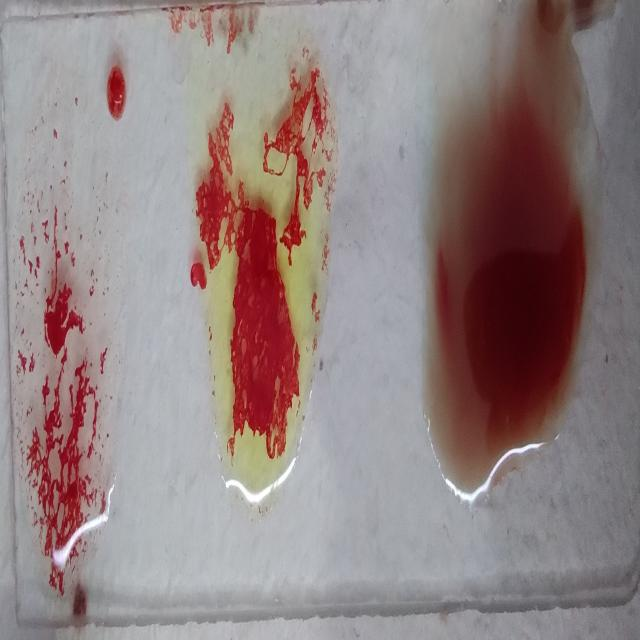B: (189, 19, 335, 507)
D: (7, 108, 119, 599)
